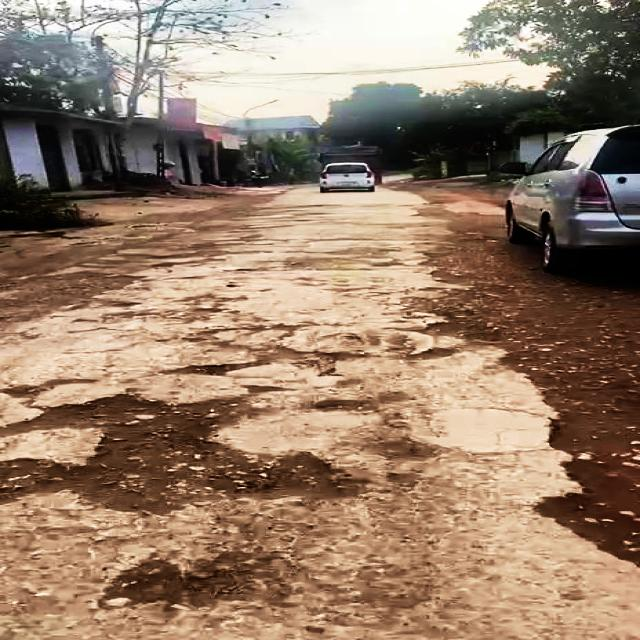pothole: (0, 390, 363, 508), (534, 412, 640, 566), (84, 556, 283, 609), (180, 322, 358, 378), (393, 297, 510, 360), (149, 346, 266, 379)
